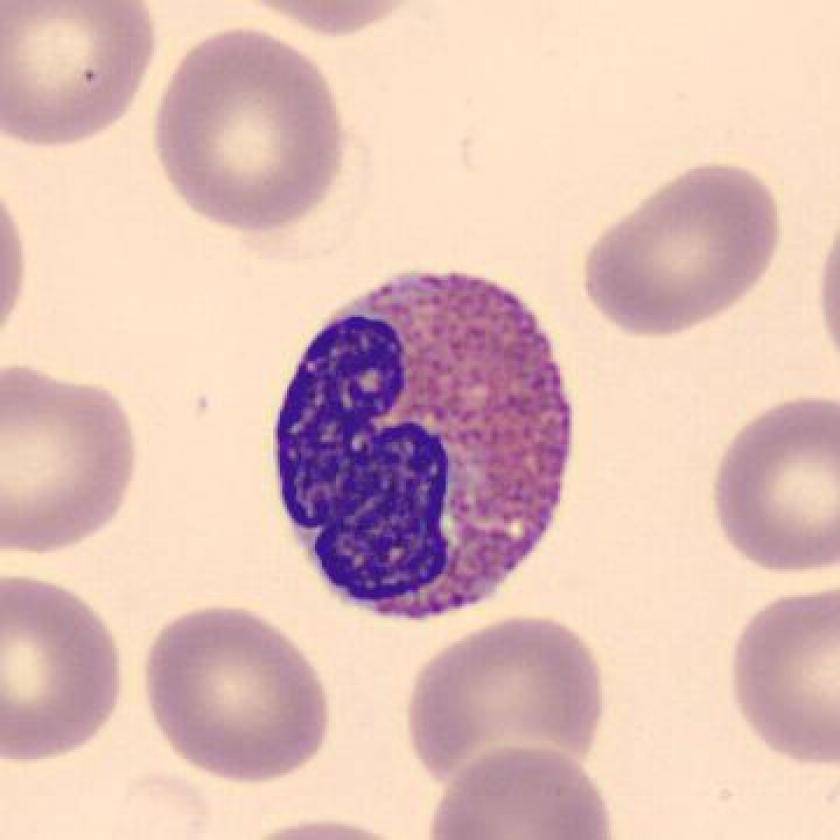eosinophil: (262, 256, 589, 635)
